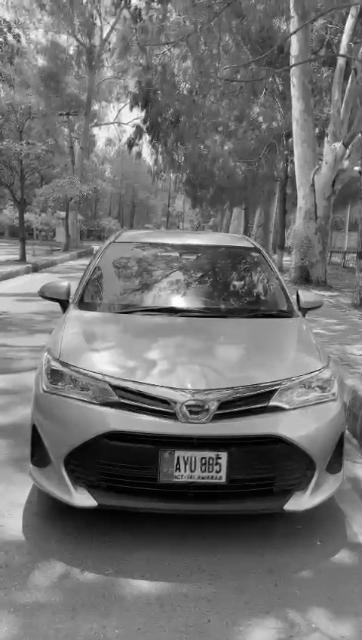Number: (175, 456, 223, 474)
